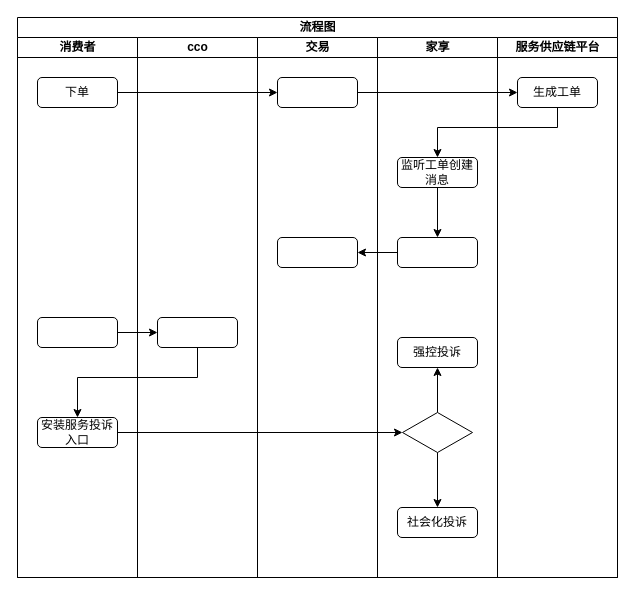
This 635x595 diagram has some shape labels left out. Here are the shapes that lost their labels. From the top down, the centre of each, then its label:
the point at 317,92: 发货
the point at 317,252: 打订单_F_tpType 标
the point at 437,252: 强控、社会化标
the point at 77,332: 订单详情页
the point at 197,332: 识别组合标 _F_tpType
the point at 437,432: 强控/社会化
